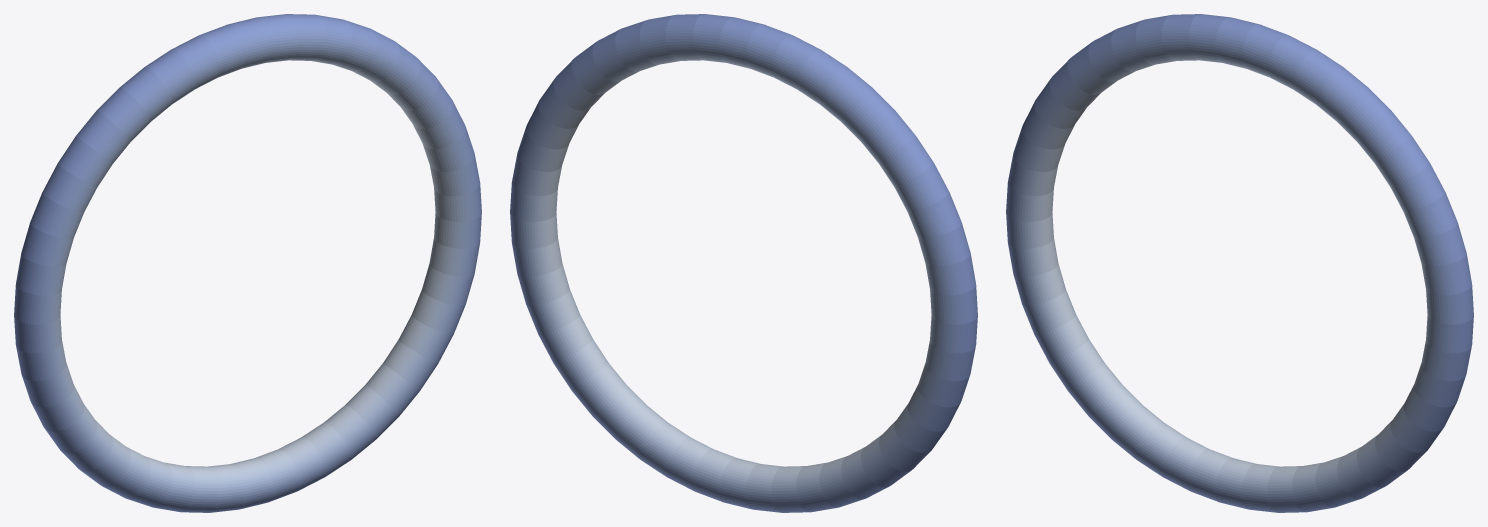
The picture shows the model from 3 angles, left to right: view 1: azimuth 30°, elevation 25°; view 2: azimuth 150°, elevation 25°; view 3: azimuth 330°, elevation 25°; orthographic projection.
Parts seen in each view (by area): view 1: world; view 2: world; view 3: world.
Boxes of the visible parts, box(x1,y1,x2,y2) form: world: box(14, 14, 481, 512); world: box(510, 14, 977, 512); world: box(1006, 14, 1473, 512).
Size of the model in its own units: 32.13 by 32.07 by 2.79.
